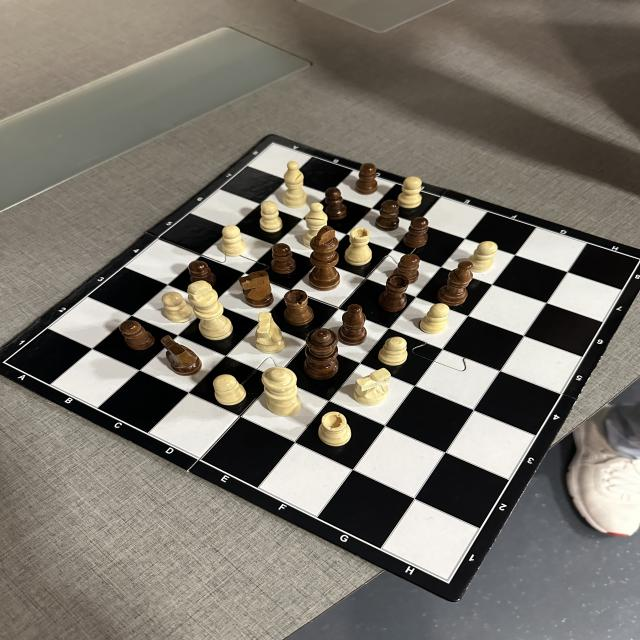Black-Bishop: (439, 260, 473, 306), (338, 304, 367, 346)
Black-King: (311, 226, 340, 290)
Black-Knight: (160, 336, 202, 376), (239, 270, 273, 308)
Black-Pawn: (120, 320, 155, 350), (271, 243, 297, 274), (394, 254, 421, 283), (375, 200, 399, 231), (324, 188, 347, 220), (404, 217, 428, 247), (355, 163, 377, 194), (189, 262, 214, 286)
Black-Queen: (303, 329, 338, 380)
Black-Rook: (281, 289, 313, 326), (378, 274, 408, 312)
White-Bishop: (303, 202, 328, 249), (284, 161, 308, 207)
White-King: (187, 280, 233, 340)
White-Knight: (354, 368, 391, 405), (255, 312, 285, 352)
White-Pawn: (213, 374, 245, 407), (468, 240, 498, 272), (162, 292, 193, 322), (378, 336, 408, 366), (419, 303, 449, 333), (397, 177, 422, 208), (222, 224, 246, 256), (260, 200, 283, 233)
White-Queen: (262, 367, 300, 416)
White-Rook: (316, 411, 352, 445), (345, 228, 372, 266)
